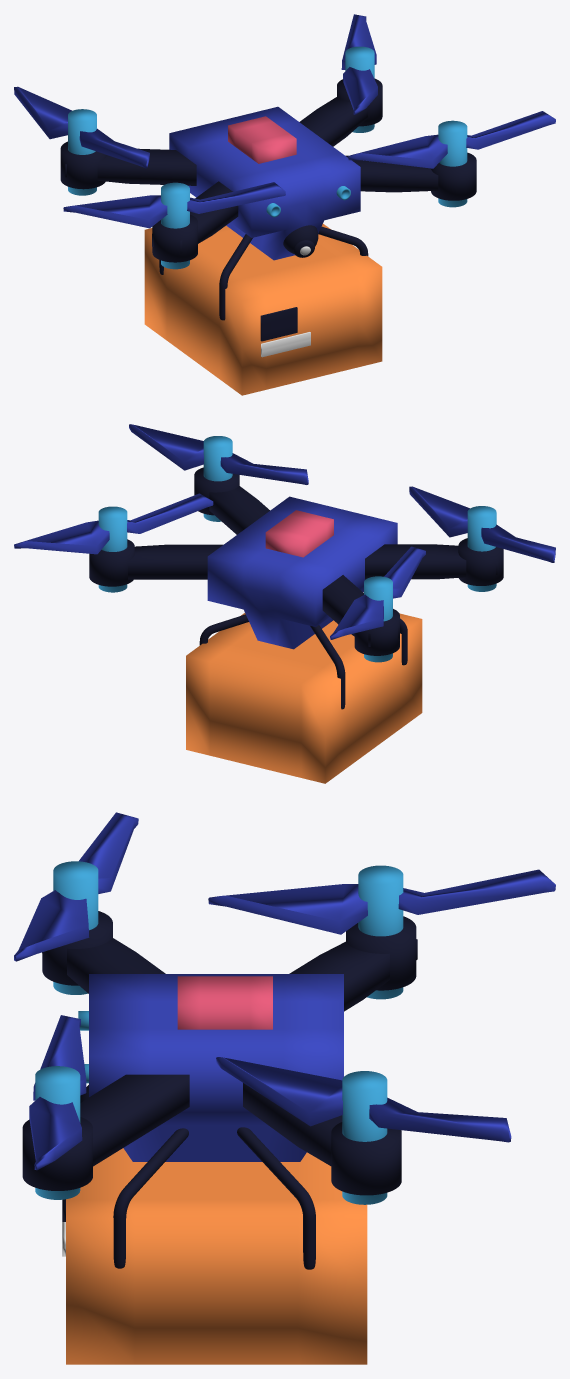
Rendered from UAV.glb.
3 renders of one model, top to bottom at view 1: azimuth 30°, elevation 25°; view 2: azimuth 150°, elevation 25°; view 3: azimuth 270°, elevation 25°, orthographic. The views are drawn at different scales.
Parts seen in each view (by area): view 1: Cube.132, Cube.128, Cube.130, Cube.129, Cube.131, Plane.003, Plane.009, Cylinder.007, Cylinder.013, Plane.007, Cylinder.011, Plane.004 (+14 smaller); view 2: Cube.132, Cube.128, Cube.129, Cube.130, Cube.131, Plane.006, Plane.010, Plane.004, Cylinder.007, Cylinder.009, Plane.005, Plane.007 (+11 smaller); view 3: Cube.132, Cube.128, Cube.130, Cube.129, Cube.131, Plane.008, Plane.005, Cylinder.009, Plane.007, Plane.006, Cylinder.010, Plane.004 (+11 smaller).
Part boxes in pixels (left/top/right/bottom): Cube.132: left=144, top=223, right=382, bottom=395; Cube.128: left=169, top=106, right=360, bottom=260; Cube.130: left=65, top=148, right=438, bottom=192; Cube.129: left=152, top=96, right=367, bottom=253; Cube.131: left=228, top=116, right=296, bottom=163; Plane.003: left=63, top=195, right=167, bottom=228; Plane.009: left=348, top=134, right=447, bottom=168; Cylinder.007: left=152, top=214, right=197, bottom=262; Cylinder.013: left=431, top=152, right=476, bottom=200; Plane.007: left=14, top=86, right=71, bottom=139; Cylinder.011: left=60, top=141, right=106, bottom=189; Plane.004: left=187, top=182, right=285, bottom=213; Cube.132: left=186, top=613, right=422, bottom=783; Cube.128: left=207, top=496, right=397, bottom=649; Cube.129: left=128, top=544, right=497, bottom=579; Cube.130: left=209, top=486, right=399, bottom=646; Cube.131: left=265, top=510, right=333, bottom=557; Plane.006: left=14, top=520, right=109, bottom=554; Plane.010: left=129, top=424, right=203, bottom=470; Plane.004: left=409, top=486, right=469, bottom=537; Cylinder.007: left=458, top=538, right=503, bottom=585; Cylinder.009: left=89, top=539, right=134, bottom=586; Plane.005: left=127, top=493, right=213, bottom=533; Plane.007: left=330, top=594, right=383, bottom=639; Cube.132: left=66, top=1148, right=367, bottom=1364; Cube.128: left=89, top=974, right=343, bottom=1161; Cube.130: left=80, top=939, right=417, bottom=1166; Cube.129: left=42, top=937, right=342, bottom=1165; Cube.131: left=177, top=976, right=272, bottom=1029; Plane.008: left=208, top=884, right=367, bottom=934; Plane.005: left=216, top=1057, right=342, bottom=1126; Cylinder.009: left=331, top=1122, right=401, bottom=1195; Plane.007: left=398, top=869, right=555, bottom=914; Plane.006: left=369, top=1097, right=511, bottom=1142; Cylinder.010: left=358, top=865, right=403, bottom=999; Plane.004: left=14, top=890, right=89, bottom=961.
Size of the model in its own units: 0.5489 by 0.2506 by 0.3619.
